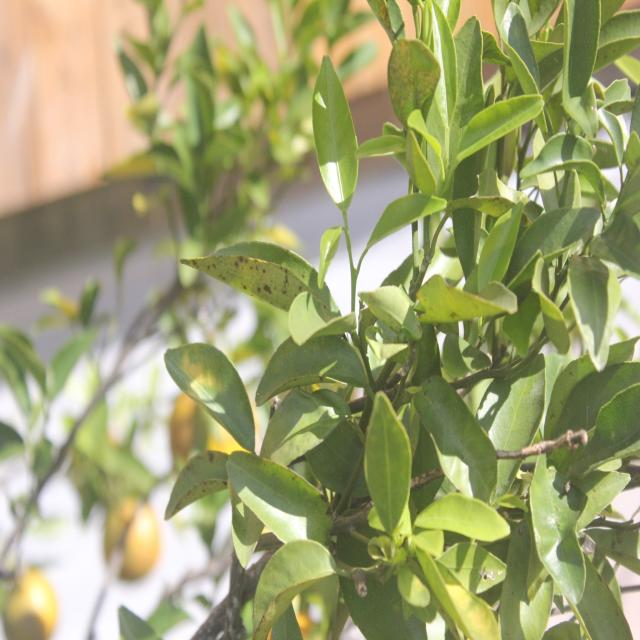melanose: (181, 237, 357, 335), (162, 447, 241, 529), (382, 28, 441, 130)
